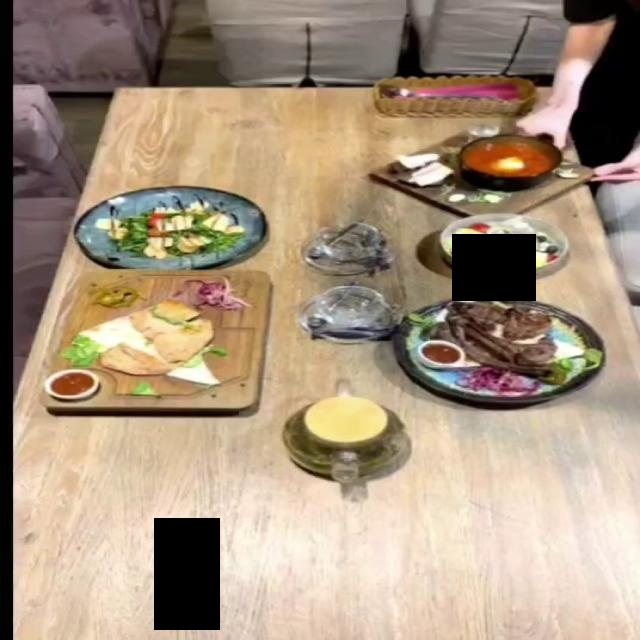meat: (43, 269, 276, 413), (390, 294, 605, 404)
salad: (71, 185, 265, 267), (438, 211, 570, 277)
soup: (389, 134, 568, 208)
tea: (279, 392, 408, 480)
